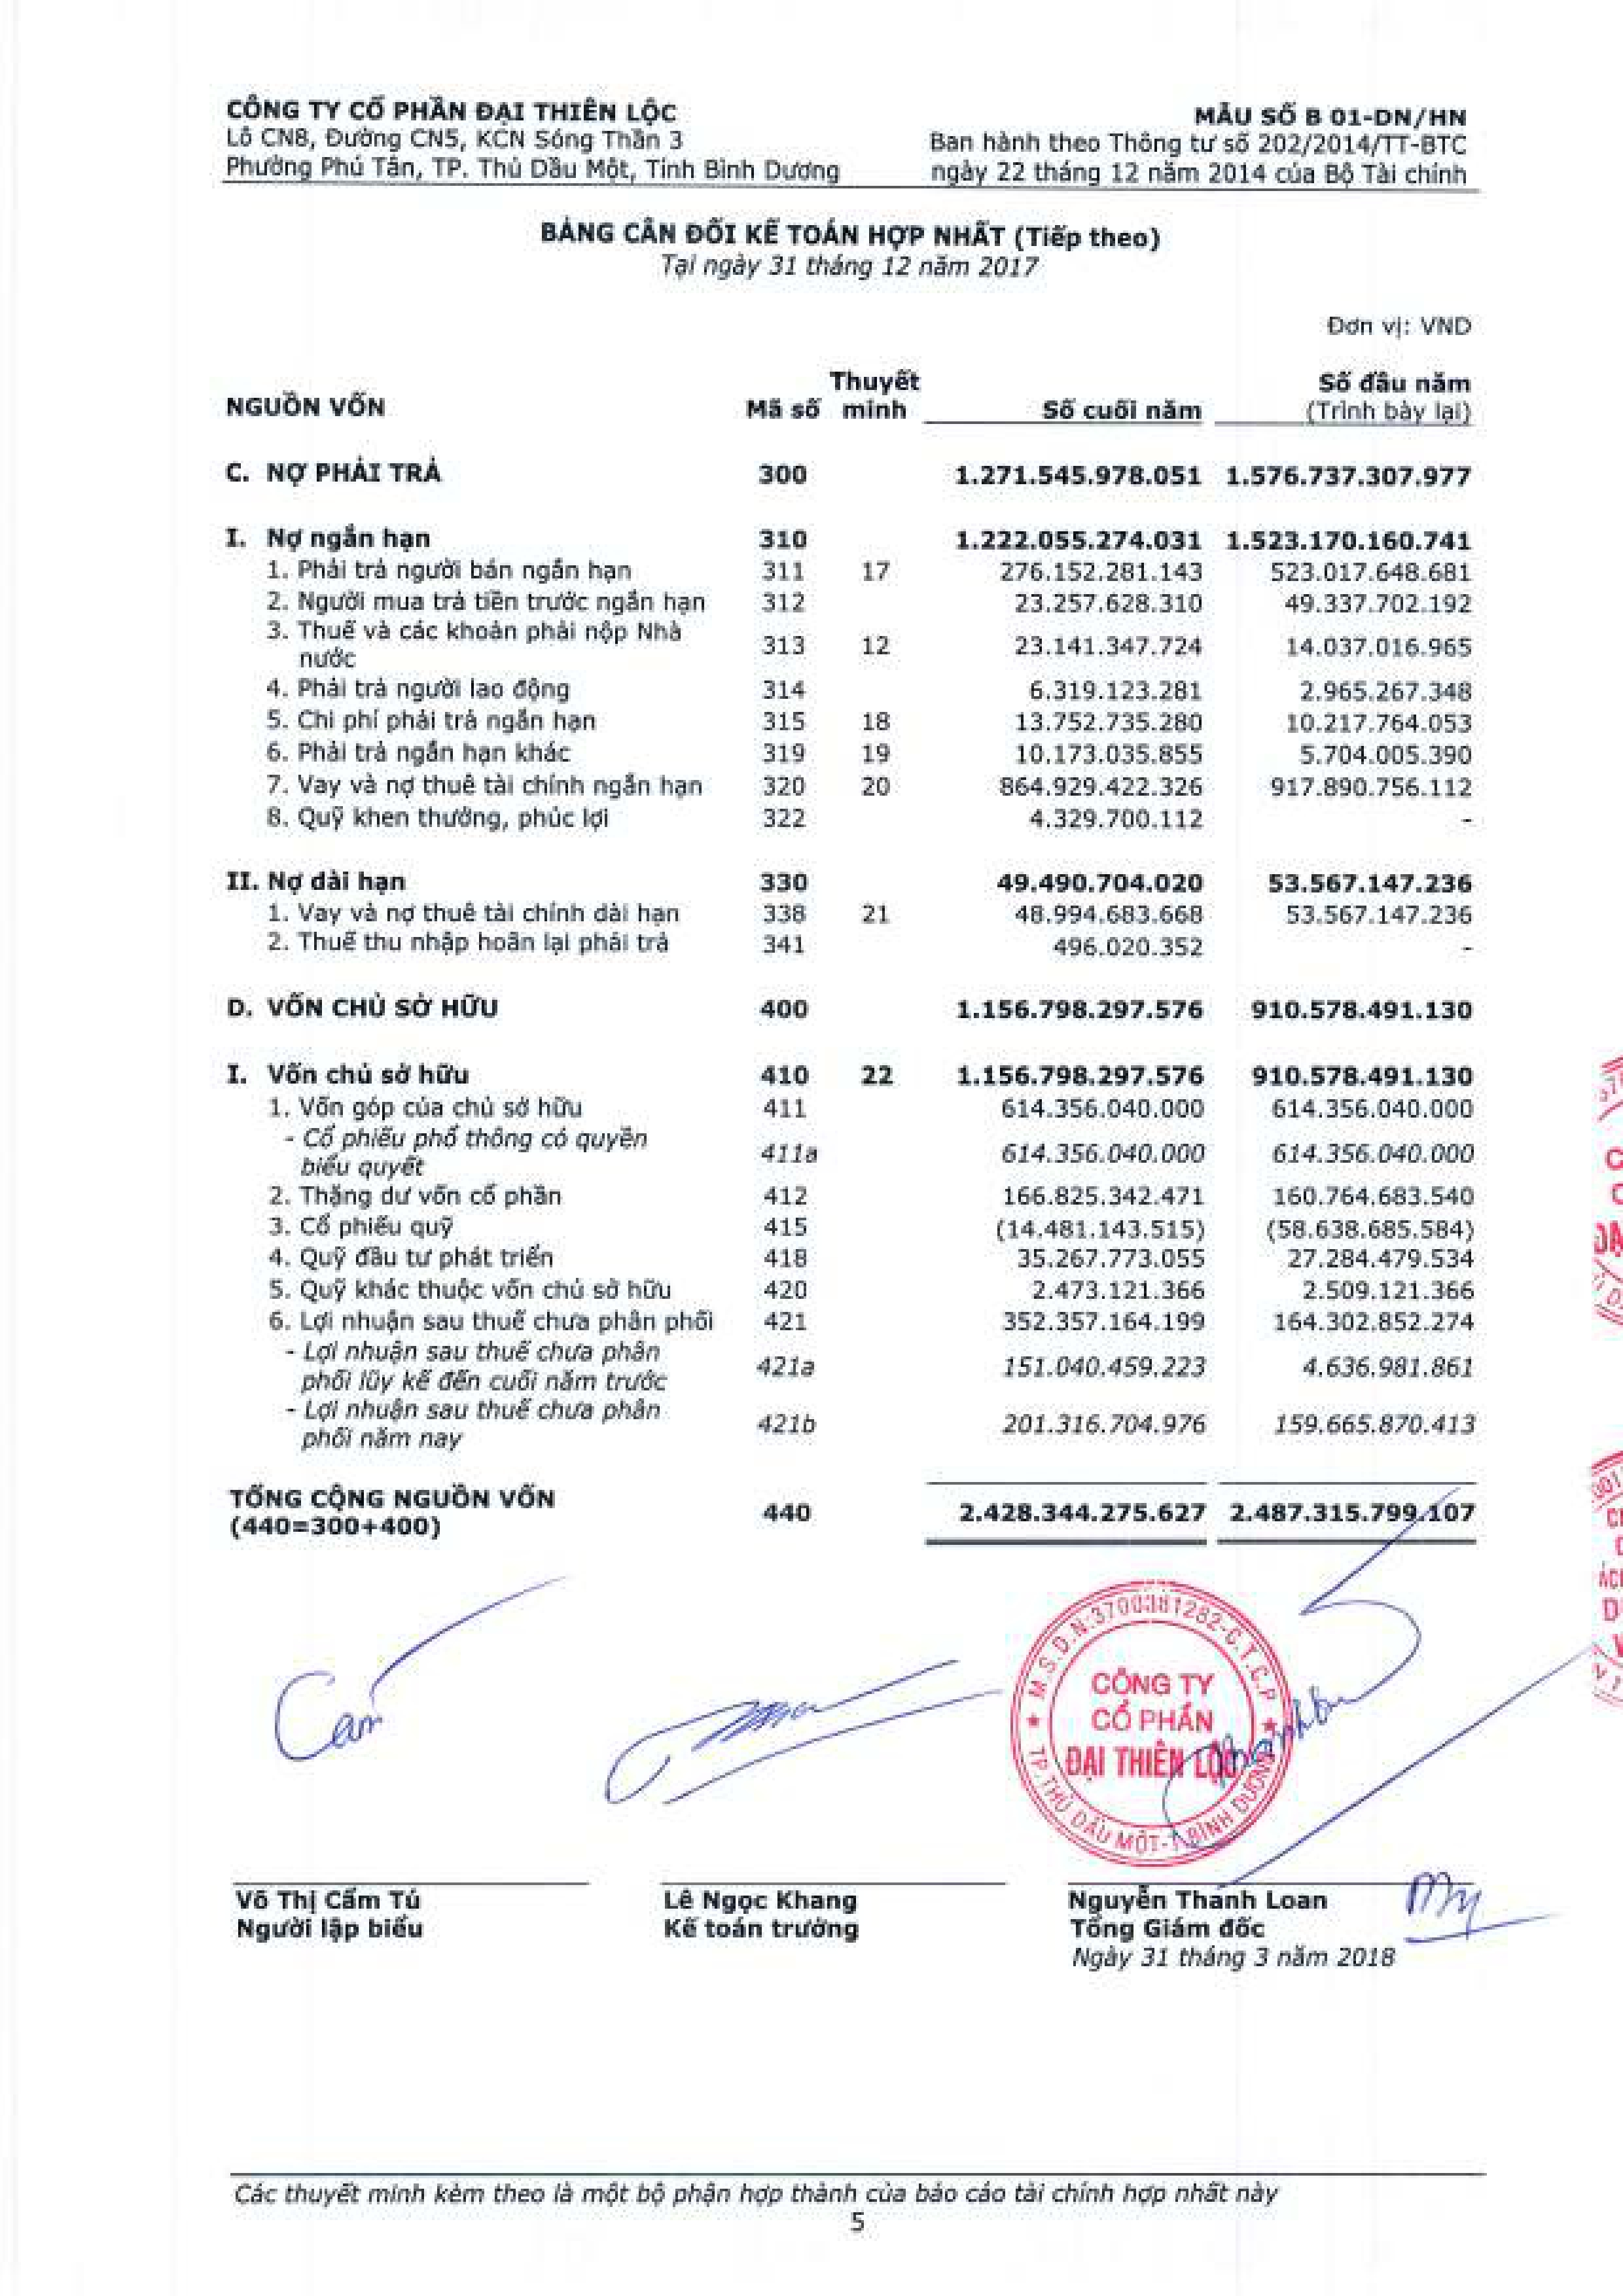table: (207, 355, 1491, 1564)
table column: (220, 355, 724, 1562), (941, 356, 1214, 1564), (1223, 355, 1481, 1562), (827, 355, 924, 1566), (734, 355, 824, 1566)
table column header: (209, 365, 1490, 427)
table row: (207, 362, 1491, 430), (207, 1478, 1491, 1545), (207, 1123, 1491, 1181), (207, 1397, 1491, 1455), (207, 1339, 1491, 1396), (207, 618, 1491, 671), (207, 451, 1491, 493), (207, 511, 1491, 553), (207, 990, 1491, 1032), (207, 1058, 1491, 1092), (207, 771, 1491, 800), (207, 556, 1491, 585), (207, 588, 1491, 616), (207, 676, 1491, 704), (207, 707, 1491, 735), (207, 739, 1491, 767), (207, 804, 1491, 832), (207, 867, 1491, 895), (207, 899, 1491, 927), (207, 929, 1491, 957), (207, 1094, 1491, 1122), (207, 1183, 1491, 1211), (207, 1213, 1491, 1241), (207, 1243, 1491, 1271), (207, 1276, 1491, 1304), (207, 1308, 1491, 1336)
